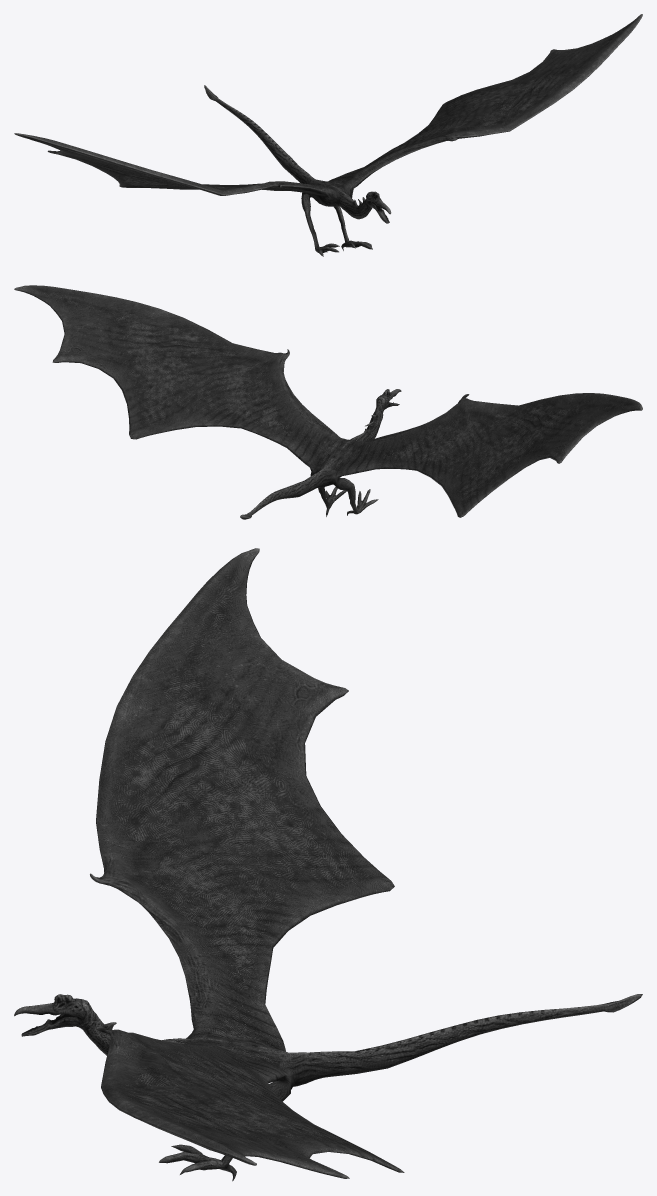
The model's file is Fellbeast_Animate_Grab_Glide_19.obj.
The picture shows the model from 3 angles, top to bottom: view 1: azimuth 30°, elevation 25°; view 2: azimuth 150°, elevation 25°; view 3: azimuth 270°, elevation 25°; orthographic projection. The views are drawn at different scales.
Visible parts, largest first — view 1: Fellbeast; view 2: Fellbeast; view 3: Fellbeast.
Part boxes in pixels (x1,y1,x2,y2): Fellbeast: [14, 14, 642, 256]; Fellbeast: [14, 285, 642, 519]; Fellbeast: [14, 548, 642, 1181].
Size of the model in its own units: 9.01 by 2.63 by 4.3.
